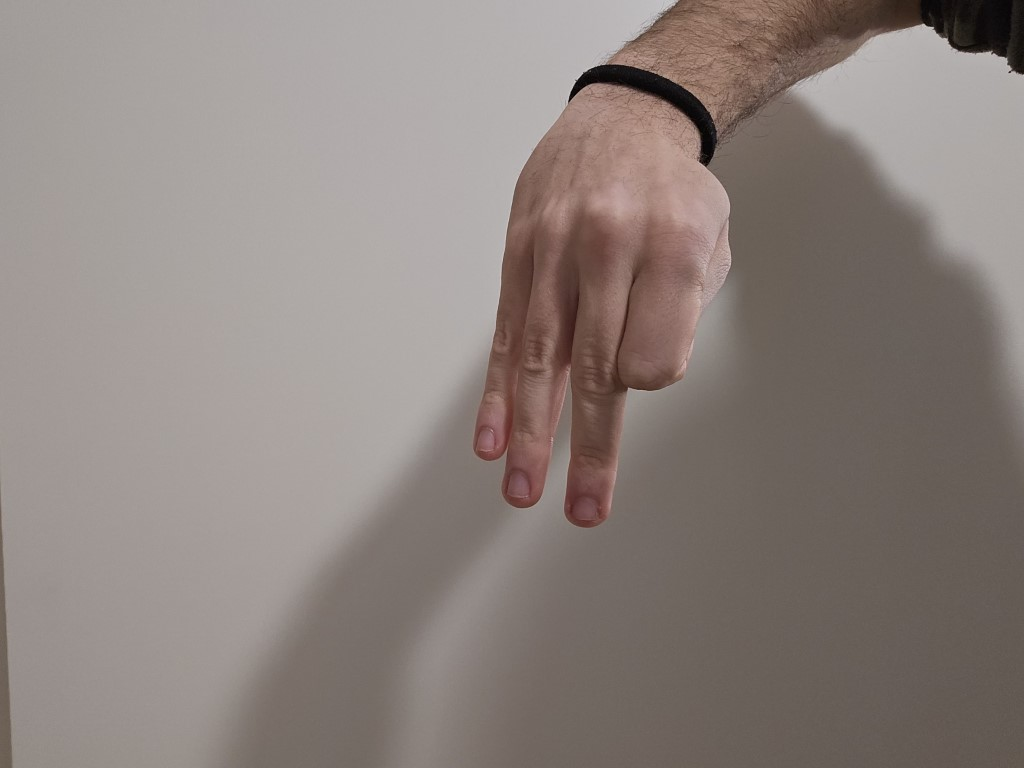m: (435, 128, 754, 527)
